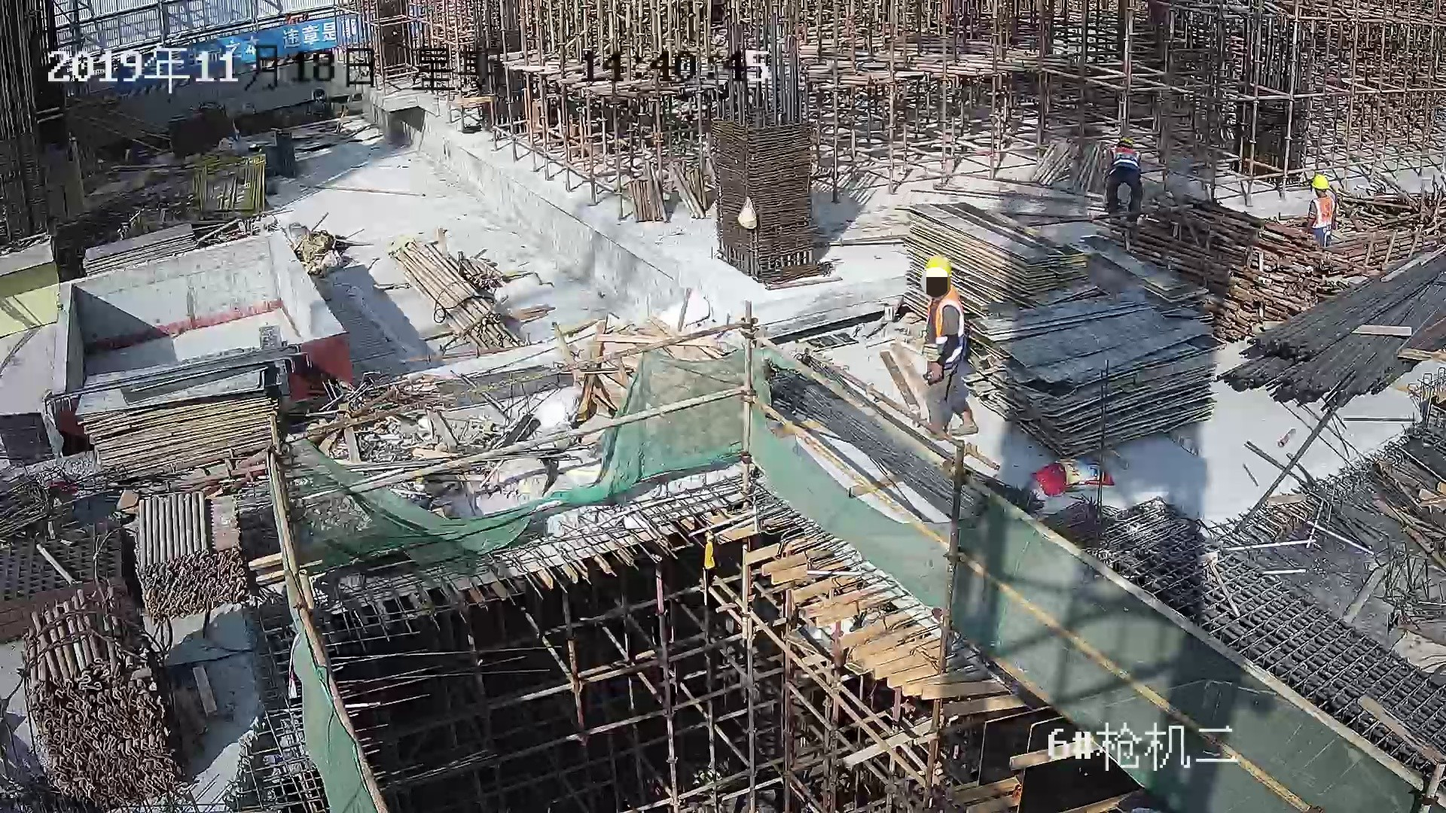hat: (925, 254, 953, 294), (1311, 174, 1330, 195)
person: (918, 254, 980, 443), (1301, 168, 1338, 247)
